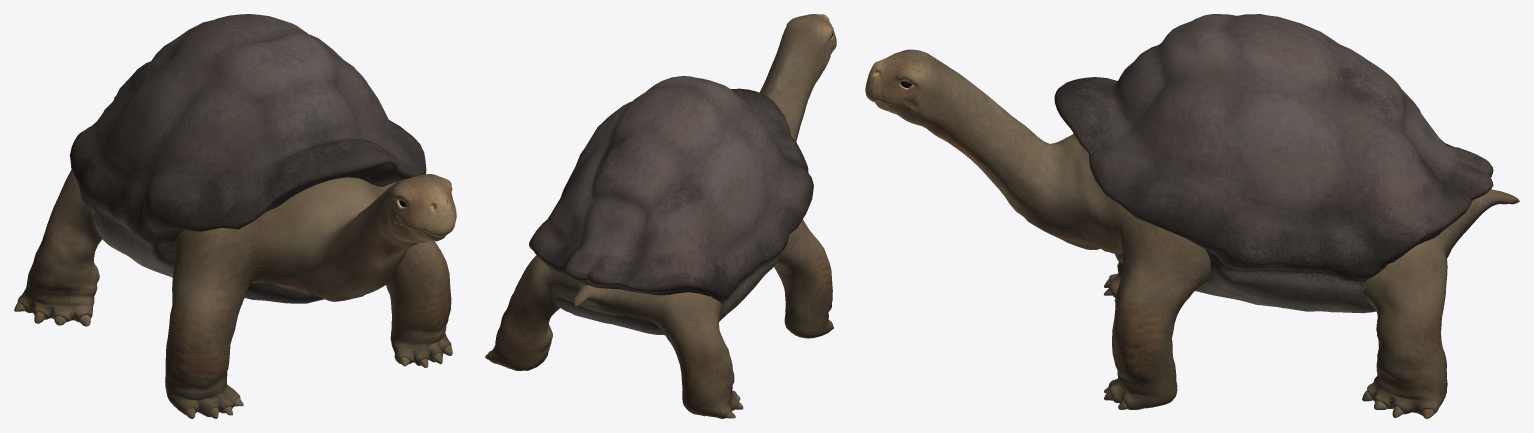
The model's file is galapagos-tortoise.glb.
3 renders of one model, left to right at view 1: azimuth 30°, elevation 25°; view 2: azimuth 150°, elevation 25°; view 3: azimuth 270°, elevation 25°, orthographic. The views are drawn at different scales.
Visible parts, largest first — view 1: Caparazon0; view 2: Caparazon0; view 3: Caparazon0.
Boxes of the visible parts, <box> form: Caparazon0: <box>14,14,456,418</box>; Caparazon0: <box>485,14,836,418</box>; Caparazon0: <box>865,14,1519,418</box>.
Bounding box in the file's own units: 8.34 × 8.01 × 14.7.
4 materials, 4 textured.
